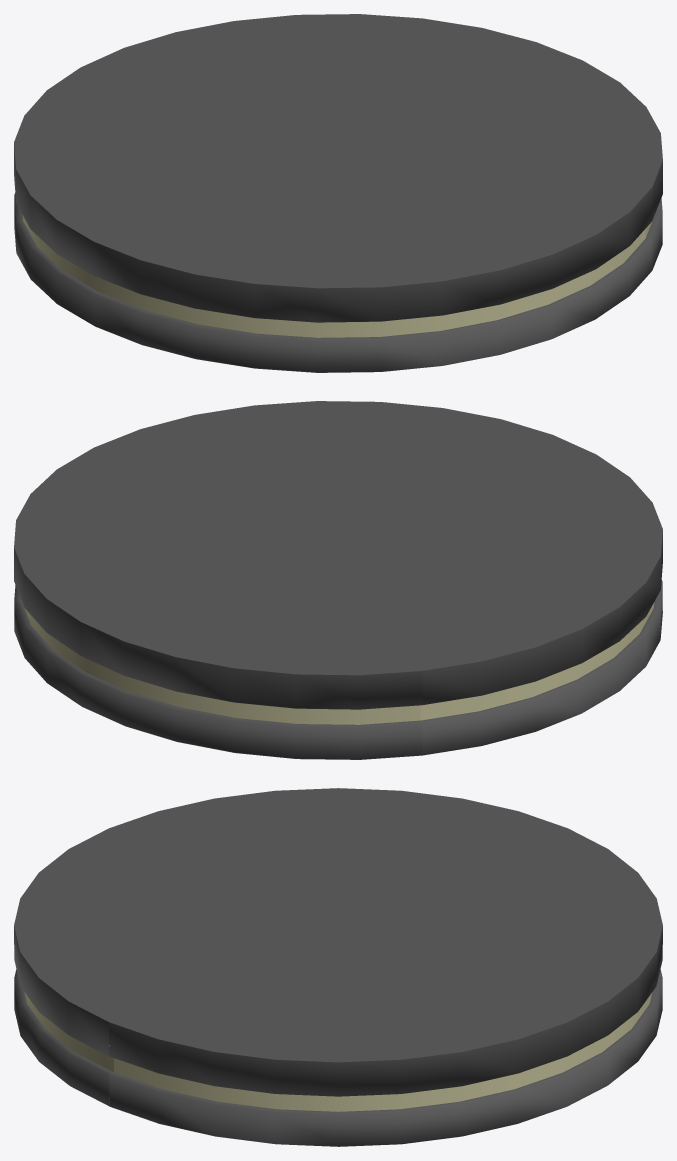
File: ceilinglight.fbx
3 views of the same model, one above another, from view 1: azimuth 30°, elevation 25°; view 2: azimuth 150°, elevation 25°; view 3: azimuth 270°, elevation 25° (orthographic).
Parts seen in each view (by area): view 1: lamp_01; view 2: lamp_01; view 3: lamp_01.
Boxes of the visible parts, <box> form: lamp_01: <box>14,14,662,372</box>; lamp_01: <box>14,401,662,759</box>; lamp_01: <box>14,788,662,1146</box>.
Size of the model in its own units: 2 by 0.2908 by 2.
